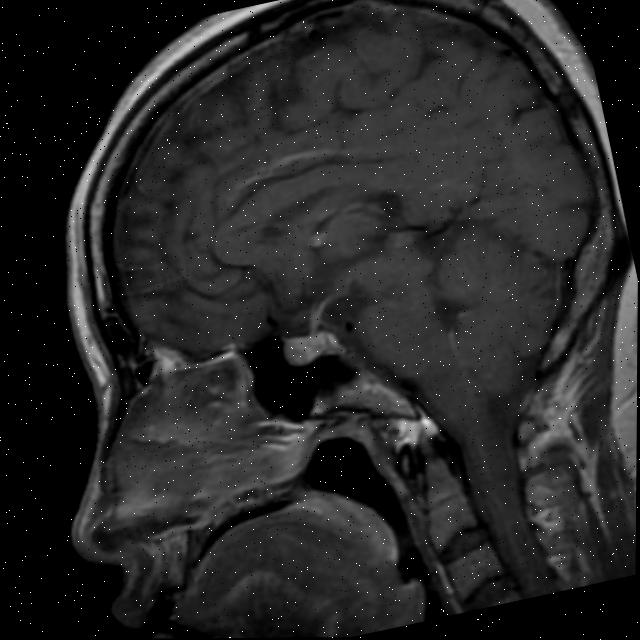Pituitary: (277, 323, 343, 369)
